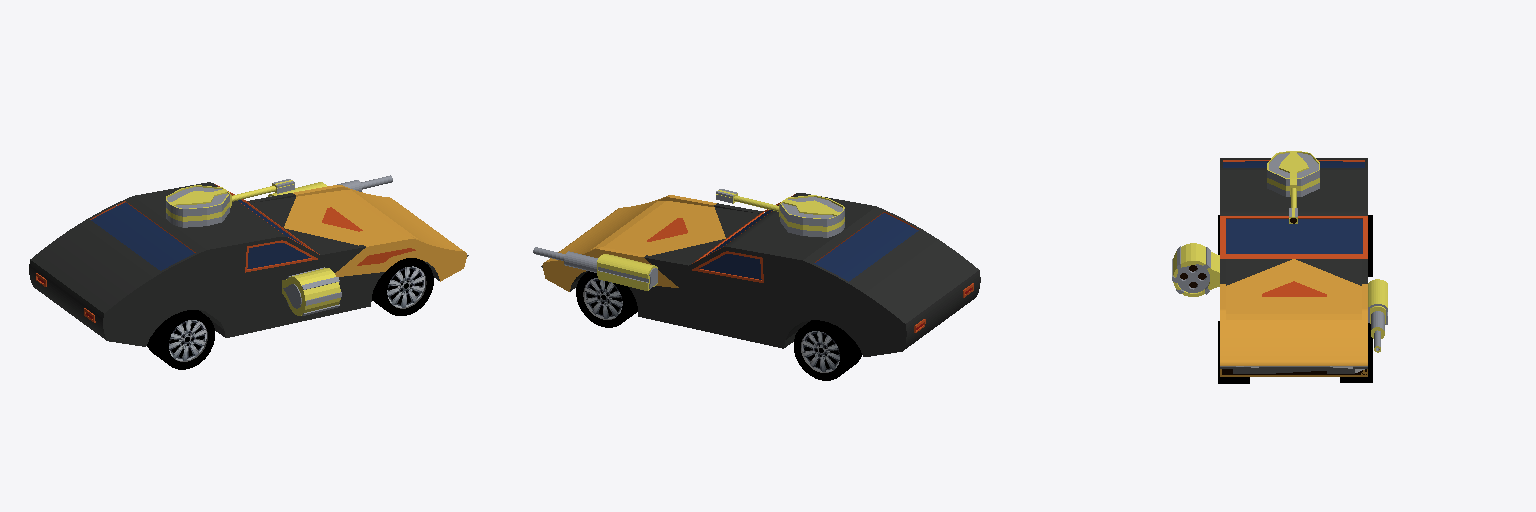
The picture shows the model from 3 angles: view 1: azimuth 30°, elevation 25°; view 2: azimuth 150°, elevation 25°; view 3: azimuth 270°, elevation 25°; orthographic projection.
Parts seen in each view (by area): view 1: Mesh1 Group2 Group1 Model, Mesh12 skp3C06_4 Model, Mesh10 skp3C06_3 Model, Mesh5 skp29DD1 Model, Mesh3 skp31A9_1 Group1 Model, Mesh2 Group3 Group1 Model; view 2: Mesh1 Group2 Group1 Model, Mesh8 skp3C06_2 Model, Mesh5 skp29DD1 Model, Mesh6 skp3C06_1 Model, Mesh2 Group3 Group1 Model; view 3: Mesh1 Group2 Group1 Model, Mesh5 skp29DD1 Model, Mesh3 skp31A9_1 Group1 Model, Mesh2 Group3 Group1 Model.
Part boxes in pixels (x1,y1,x2,y2): Mesh1 Group2 Group1 Model: (29,182,468,346); Mesh12 skp3C06_4 Model: (147,310,214,369); Mesh10 skp3C06_3 Model: (372,258,433,315); Mesh5 skp29DD1 Model: (166,185,275,227); Mesh3 skp31A9_1 Group1 Model: (282,267,341,315); Mesh2 Group3 Group1 Model: (268,175,392,196); Mesh1 Group2 Group1 Model: (541,193,980,356); Mesh8 skp3C06_2 Model: (794,320,861,380); Mesh5 skp29DD1 Model: (734,195,844,237); Mesh6 skp3C06_1 Model: (576,271,637,327); Mesh2 Group3 Group1 Model: (533,247,657,290); Mesh1 Group2 Group1 Model: (1220,158,1367,376); Mesh5 skp29DD1 Model: (1267,151,1319,207); Mesh3 skp31A9_1 Group1 Model: (1172,243,1219,296); Mesh2 Group3 Group1 Model: (1368,279,1387,352).
Bounding box in the file's own units: 3.11 × 1.07 × 1.58.
16 materials, 1 textured.